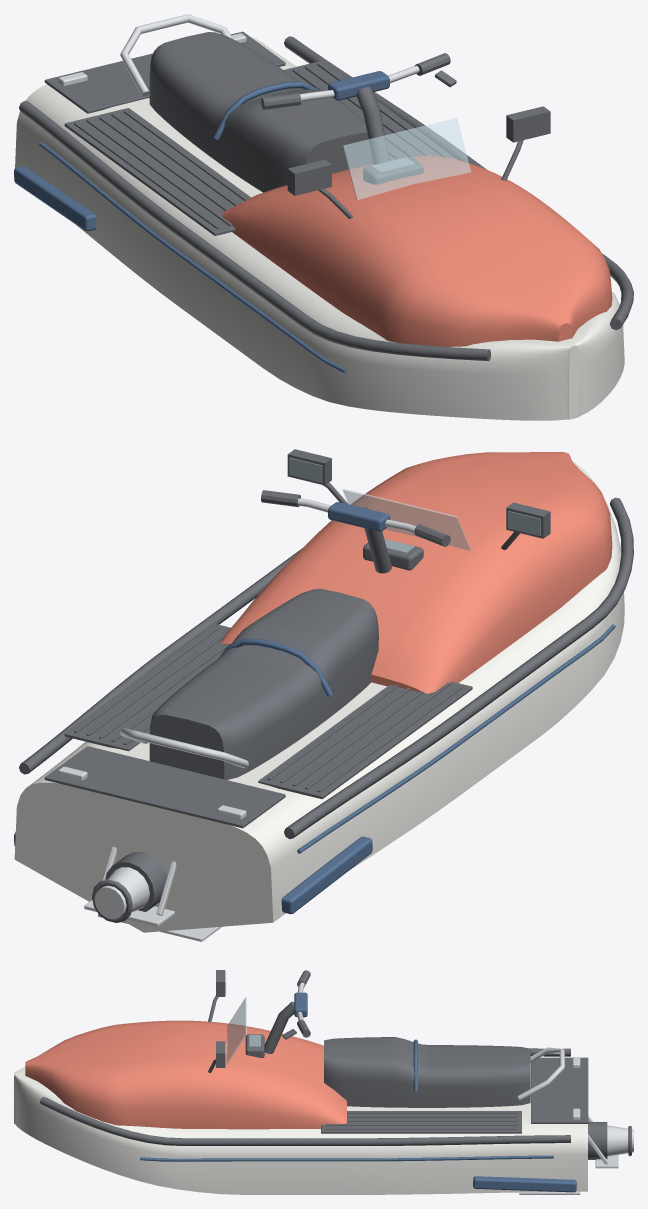
Rendered from beach-surf-and-paddle-kit-recreational-jet-ski-a61d9936.glb.
3 renders of one model, top to bottom at view 1: azimuth 30°, elevation 25°; view 2: azimuth 150°, elevation 25°; view 3: azimuth 270°, elevation 25°, orthographic. The views are drawn at different scales.
Visible parts, largest first — view 1: recreational-jet-ski-charcoal, recreational-jet-ski-coral, recreational-jet-ski-foam, recreational-jet-ski-glass, recreational-jet-ski-navy, recreational-jet-ski-steel; view 2: recreational-jet-ski-charcoal, recreational-jet-ski-foam, recreational-jet-ski-coral, recreational-jet-ski-navy, recreational-jet-ski-steel, recreational-jet-ski-glass; view 3: recreational-jet-ski-foam, recreational-jet-ski-charcoal, recreational-jet-ski-coral, recreational-jet-ski-navy, recreational-jet-ski-steel, recreational-jet-ski-glass.
Part boxes in pixels (left/top/right/bottom): recreational-jet-ski-charcoal: left=19, top=31, right=633, bottom=361; recreational-jet-ski-coral: left=222, top=155, right=612, bottom=346; recreational-jet-ski-foam: left=15, top=38, right=624, bottom=420; recreational-jet-ski-glass: left=342, top=118, right=470, bottom=200; recreational-jet-ski-navy: left=14, top=71, right=389, bottom=373; recreational-jet-ski-steel: left=58, top=14, right=419, bottom=101; recreational-jet-ski-charcoal: left=19, top=449, right=633, bottom=922; recreational-jet-ski-foam: left=14, top=462, right=624, bottom=932; recreational-jet-ski-coral: left=221, top=452, right=612, bottom=693; recreational-jet-ski-navy: left=14, top=502, right=615, bottom=914; recreational-jet-ski-steel: left=58, top=498, right=415, bottom=941; recreational-jet-ski-glass: left=289, top=457, right=540, bottom=553; recreational-jet-ski-foam: left=14, top=1063, right=587, bottom=1194; recreational-jet-ski-charcoal: left=40, top=970, right=631, bottom=1159; recreational-jet-ski-coral: left=25, top=1020, right=346, bottom=1129; recreational-jet-ski-navy: left=140, top=992, right=576, bottom=1192; recreational-jet-ski-steel: left=297, top=982, right=633, bottom=1194; recreational-jet-ski-glass: left=225, top=973, right=260, bottom=1065.
Bounding box in the file's own units: 1.19 × 1.03 × 3.24.
